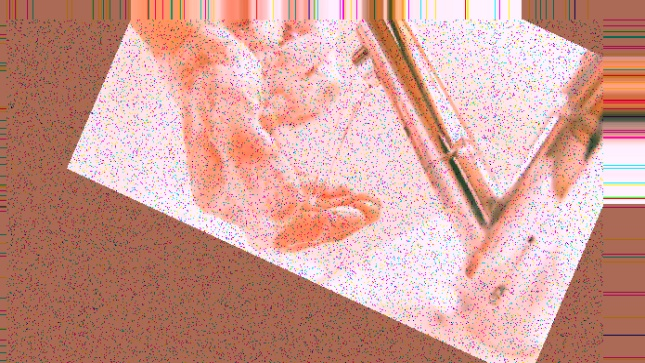washing hand: (113, 0, 585, 343)
